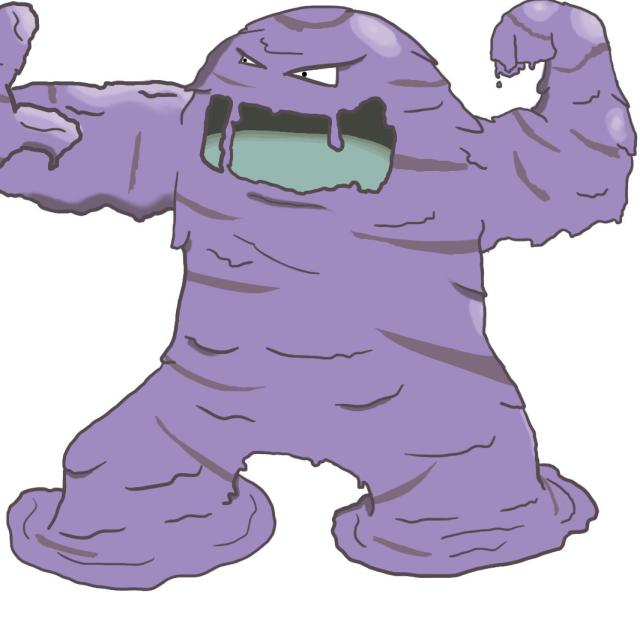Muk: (169, 8, 484, 270)
